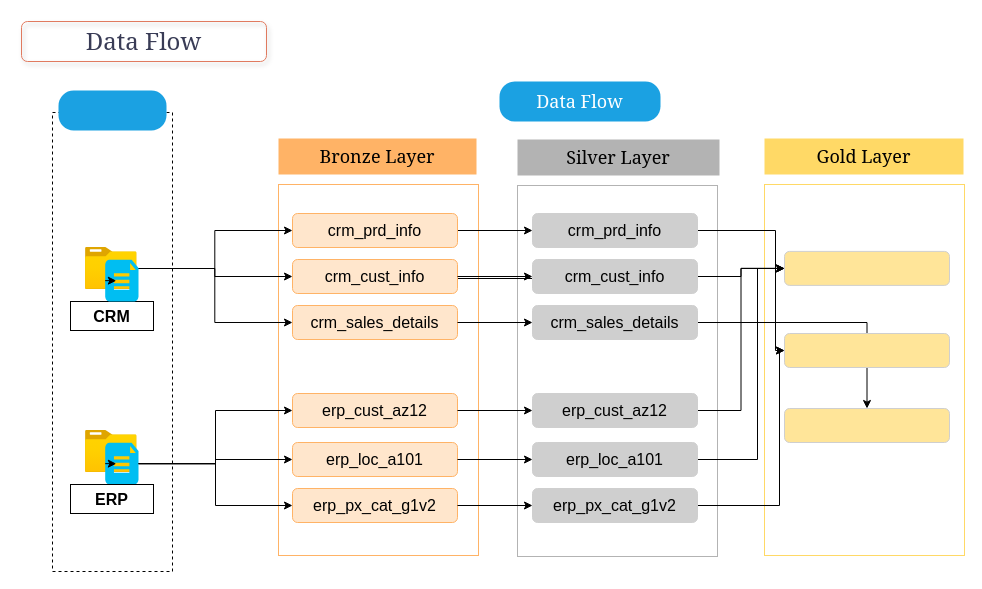
Image size: 982x589. Some labels were removed from this diagram. Each missing label, with the centre of its shape:
"dim_customers" belongs at point 867,267.
"dim_product" belongs at point 867,350.
"fact_sales" belongs at point 867,425.
"Sources" belongs at point 112,110.
